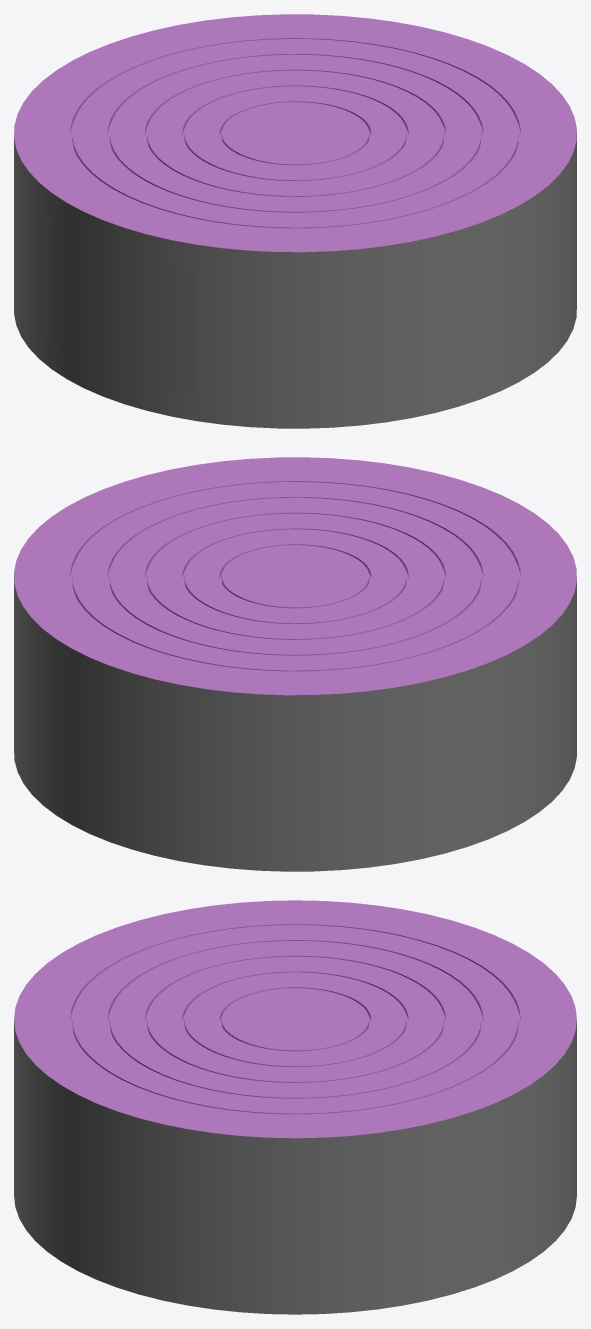
Rendered from Puzzle_Circle.fbx.
3 views of the same model, one above another, from view 1: azimuth 30°, elevation 25°; view 2: azimuth 150°, elevation 25°; view 3: azimuth 270°, elevation 25° (orthographic).
Visible parts, largest first — view 1: puzzle_circle, circle_e, pull_a, circle_d, circle_c, circle_b, circle_a, pull_b; view 2: puzzle_circle, circle_e, pull_b, circle_d, circle_c, circle_b, circle_a, pull_a; view 3: puzzle_circle, circle_e, circle_d, circle_c, circle_b, circle_a.
Boxes of the visible parts, x1,y1,x2,y2 form: puzzle_circle: (14,14,576,428); circle_e: (72,39,518,228); pull_a: (51,222,196,391); circle_d: (109,54,481,212); circle_c: (147,70,443,196); circle_b: (184,86,406,180); circle_a: (221,102,369,165); pull_b: (14,167,51,339); puzzle_circle: (14,457,576,871); circle_e: (72,482,518,671); pull_b: (394,665,539,834); circle_d: (109,497,481,655); circle_c: (147,513,443,639); circle_b: (184,529,406,623); circle_a: (221,545,369,608); pull_a: (539,610,576,782); puzzle_circle: (14,900,576,1314); circle_e: (72,925,518,1114); circle_d: (109,940,481,1098); circle_c: (147,956,443,1082); circle_b: (184,972,406,1066); circle_a: (221,988,369,1051).
Bounding box in the file's own units: 16.63 × 5.75 × 16.63.
